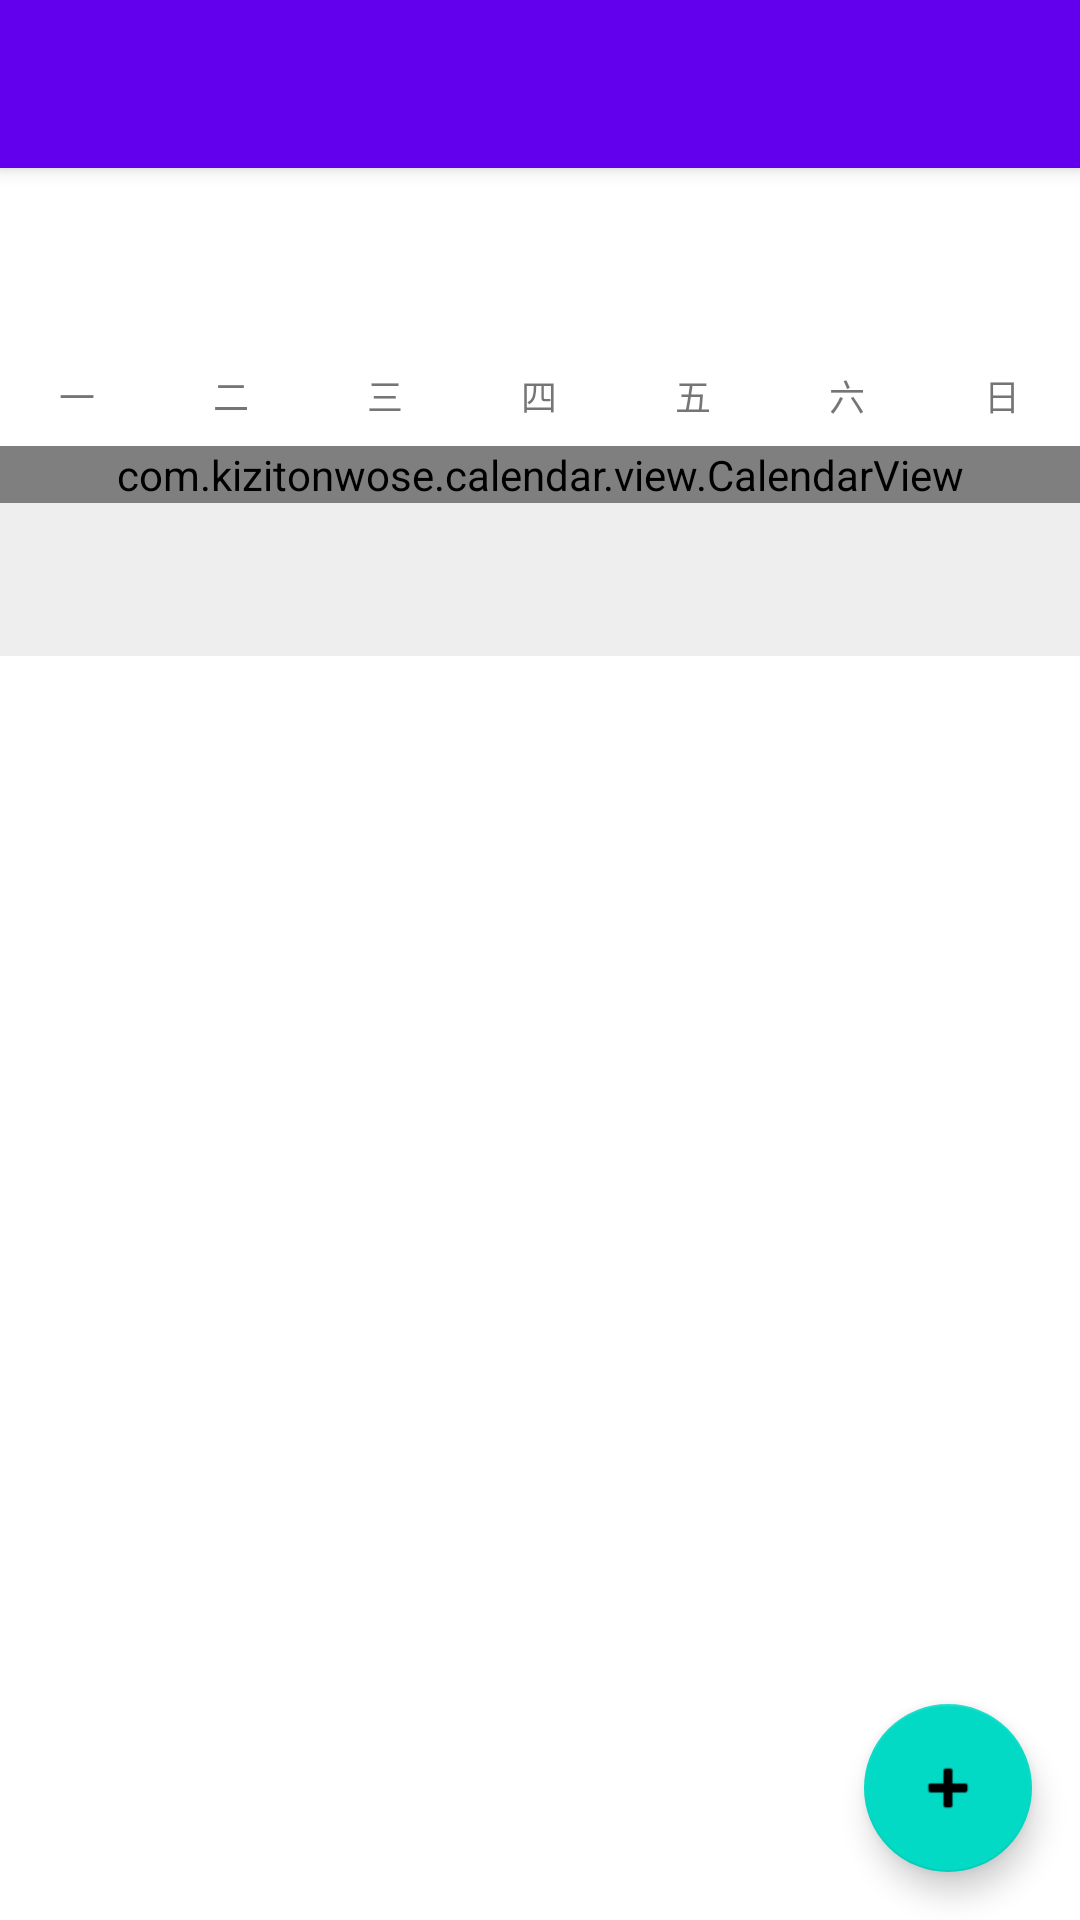

Where icons sit on this 1080 × 1920 app screen, as (x1, y1, x2, y2):
添加日程: (864, 1704, 1032, 1872)
